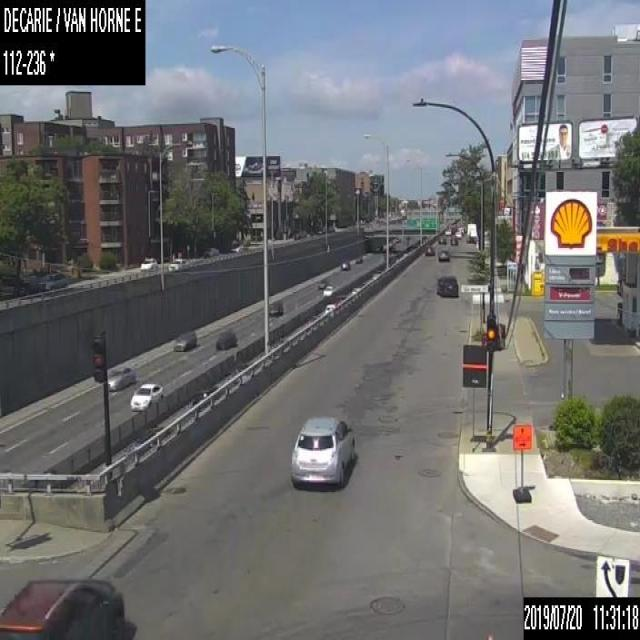construction: (511, 423, 531, 500)
vehicle: (0, 576, 123, 639), (289, 412, 355, 487), (128, 380, 164, 411), (105, 364, 136, 390), (215, 326, 236, 350), (38, 272, 66, 290), (172, 330, 196, 350), (435, 275, 457, 296), (266, 297, 284, 315), (138, 255, 158, 269), (167, 256, 188, 269), (466, 221, 476, 243), (203, 246, 218, 257), (322, 284, 333, 296), (436, 250, 448, 261), (230, 243, 243, 252), (324, 303, 335, 313), (424, 244, 434, 253), (341, 260, 350, 269), (449, 235, 458, 244), (437, 234, 446, 243), (318, 279, 326, 288), (449, 224, 456, 233), (354, 255, 362, 262), (454, 230, 461, 238), (444, 228, 451, 235)
